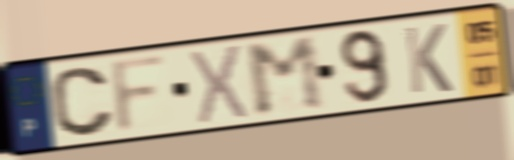9: (337, 26, 392, 110)
C: (48, 64, 118, 140)
F: (107, 50, 171, 139)
K: (402, 21, 456, 97)
M: (241, 33, 329, 121)
X: (187, 41, 250, 127)
